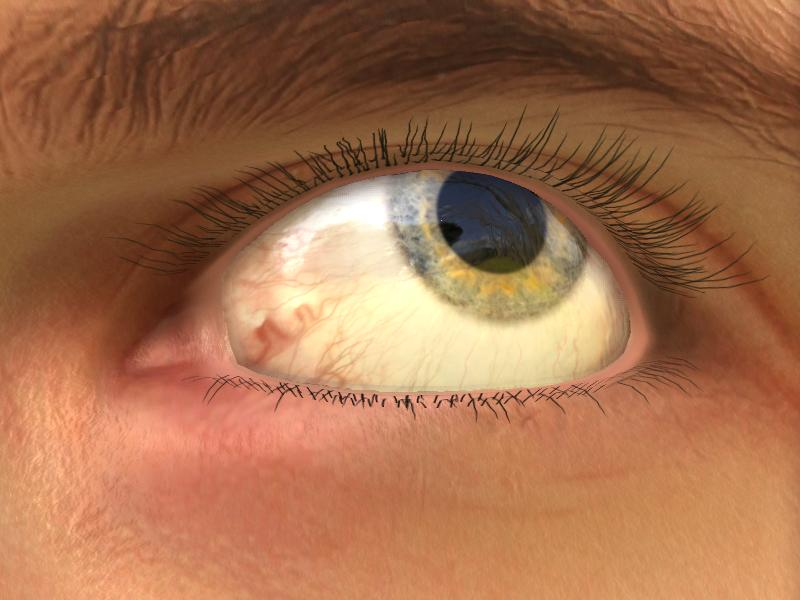eye: (383, 166, 593, 325)
